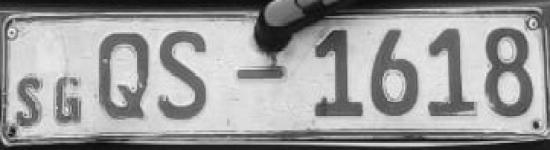-: (230, 61, 288, 84)
1: (420, 23, 480, 124), (311, 25, 368, 123)
6: (364, 23, 422, 123)
8: (479, 24, 537, 124)
G: (49, 71, 90, 130)
Q: (92, 27, 152, 123)
S: (155, 26, 212, 123), (13, 70, 48, 131)
